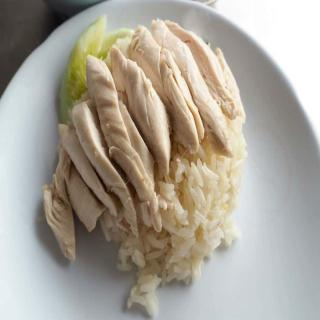carbs: (146, 145, 240, 281)
chicken_rice: (44, 22, 240, 286)
meat: (66, 42, 229, 141), (45, 142, 152, 246)
veg: (58, 21, 121, 99)
